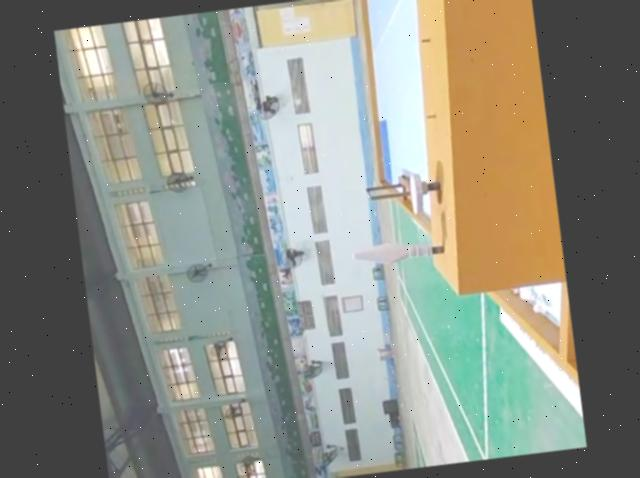Hand: (409, 170, 445, 214)
Sph: (351, 236, 446, 271)
